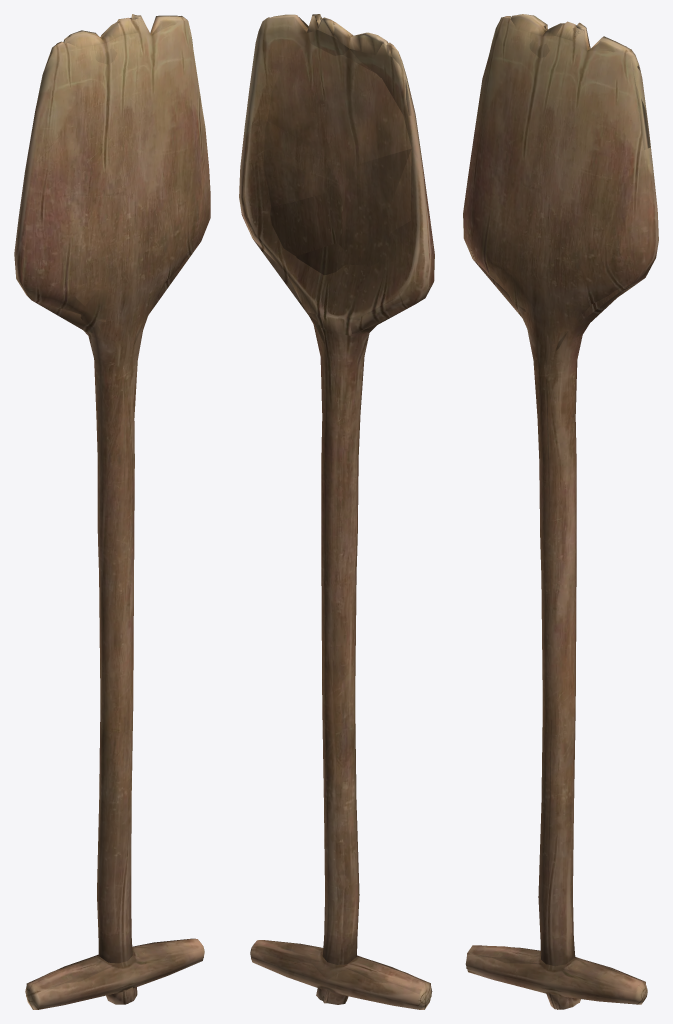
The picture shows the model from 3 angles, left to right: view 1: azimuth 30°, elevation 25°; view 2: azimuth 150°, elevation 25°; view 3: azimuth 330°, elevation 25°; orthographic projection.
Parts seen in each view (by area): view 1: SM_Shovel_Wooden_2H_01_LOD0; view 2: SM_Shovel_Wooden_2H_01_LOD0; view 3: SM_Shovel_Wooden_2H_01_LOD0.
Part boxes in pixels (x1,y1,x2,y2): SM_Shovel_Wooden_2H_01_LOD0: [14, 14, 210, 1009]; SM_Shovel_Wooden_2H_01_LOD0: [239, 14, 434, 1009]; SM_Shovel_Wooden_2H_01_LOD0: [463, 14, 658, 1009].
Size of the model in its own units: 0.2804 by 1.37 by 0.0726.
Materials: 1 (1 with a texture image).
